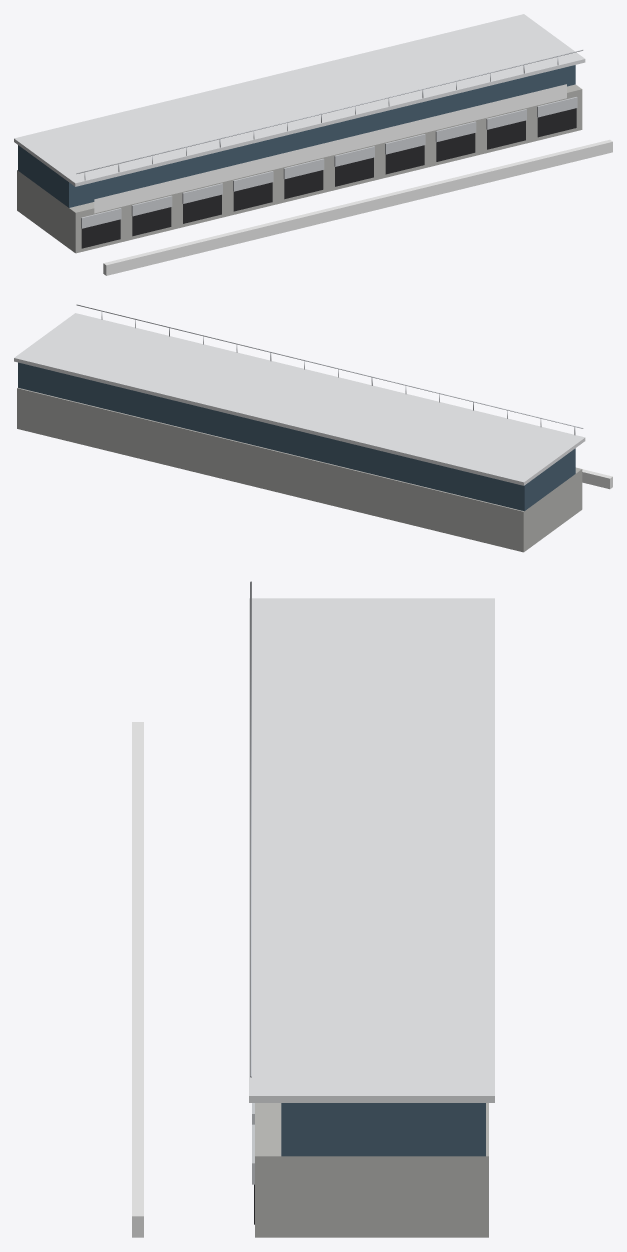
The model's file is pits.glb.
3 views of the same model, one above another, from view 1: azimuth 30°, elevation 25°; view 2: azimuth 150°, elevation 25°; view 3: azimuth 270°, elevation 25° (orthographic). The views are drawn at different scales.
Visible parts, largest first — view 1: Box.045, Box.044, Box.046, Box.023, Banner.001, Box.022, Rod.025, Box.024, Box.026, Box.030, Box.032, Box.036 (+15 smaller); view 2: Box.045, Box.023, Box.044, Box.022, Rod.025, Box.046; view 3: Box.045, Box.023, Box.044, Box.046, Box.022, Rod.025.
Boxes of the visible parts, x1=… form: Box.045: x1=14, y1=14, x2=585, y2=186; Box.044: x1=18, y1=65, x2=575, y2=207; Box.046: x1=103, y1=139, x2=612, y2=275; Box.023: x1=17, y1=84, x2=582, y2=249; Banner.001: x1=94, y1=84, x2=566, y2=213; Box.022: x1=17, y1=126, x2=582, y2=253; Rod.025: x1=76, y1=50, x2=583, y2=173; Box.024: x1=81, y1=219, x2=120, y2=248; Box.026: x1=132, y1=207, x2=171, y2=236; Box.030: x1=233, y1=182, x2=272, y2=211; Box.032: x1=284, y1=170, x2=323, y2=199; Box.036: x1=385, y1=145, x2=424, y2=174; Box.045: x1=14, y1=313, x2=585, y2=485; Box.023: x1=17, y1=388, x2=582, y2=548; Box.044: x1=18, y1=362, x2=575, y2=511; Box.022: x1=17, y1=425, x2=582, y2=552; Rod.025: x1=76, y1=304, x2=583, y2=428; Box.046: x1=582, y1=469, x2=612, y2=489; Box.045: x1=249, y1=598, x2=494, y2=1102; Box.023: x1=255, y1=1103, x2=488, y2=1230; Box.044: x1=281, y1=1103, x2=485, y2=1156; Box.046: x1=132, y1=722, x2=143, y2=1237; Box.022: x1=255, y1=1230, x2=488, y2=1237; Rod.025: x1=250, y1=581, x2=251, y2=1077.
Size of the model in its own units: 60.4 by 9.15 by 18.6.
